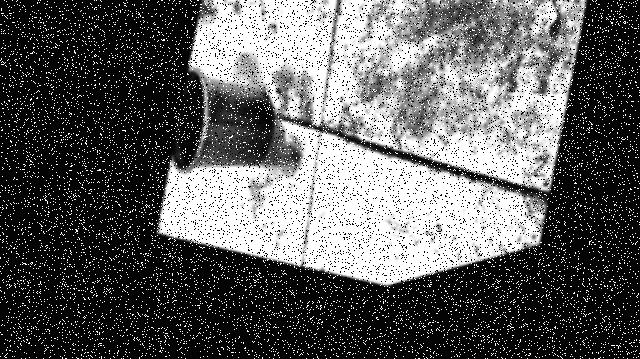pot: (171, 65, 274, 173)
